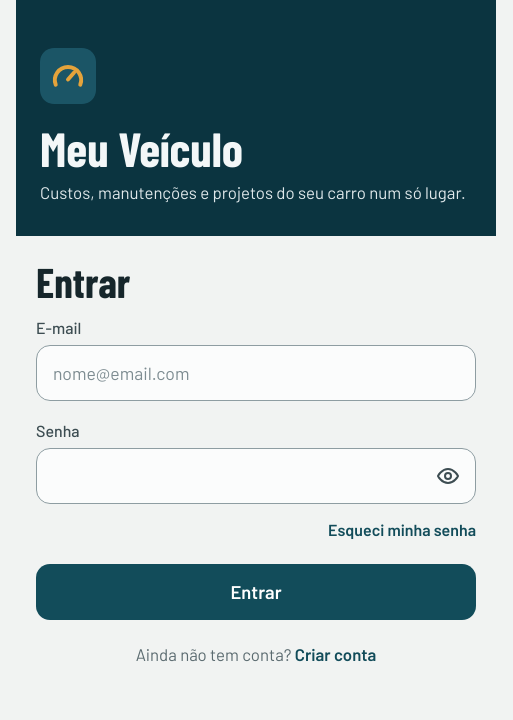
Entrar › valida os campos antes de enviar
Click the button "Entrar" at coordinates (256, 592), box [36,564,476,620]
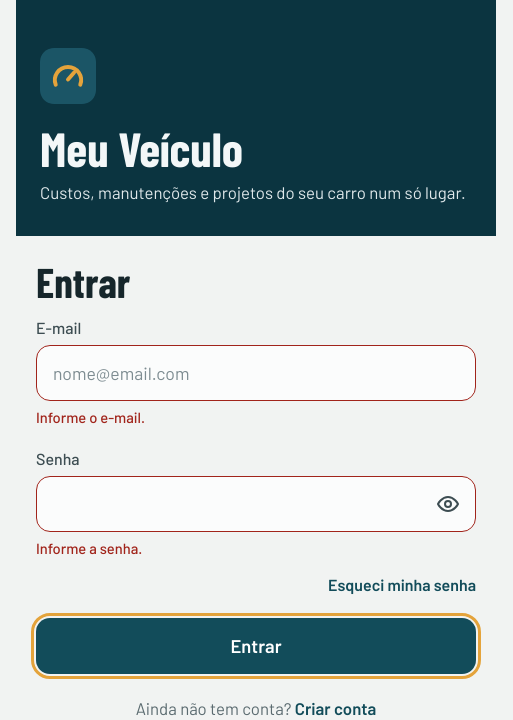
expect the text "Informe o e-mail." is shown: met, box [36,408,145,426]
expect the text "Informe a senha." is shown: met, box [36,539,142,557]
